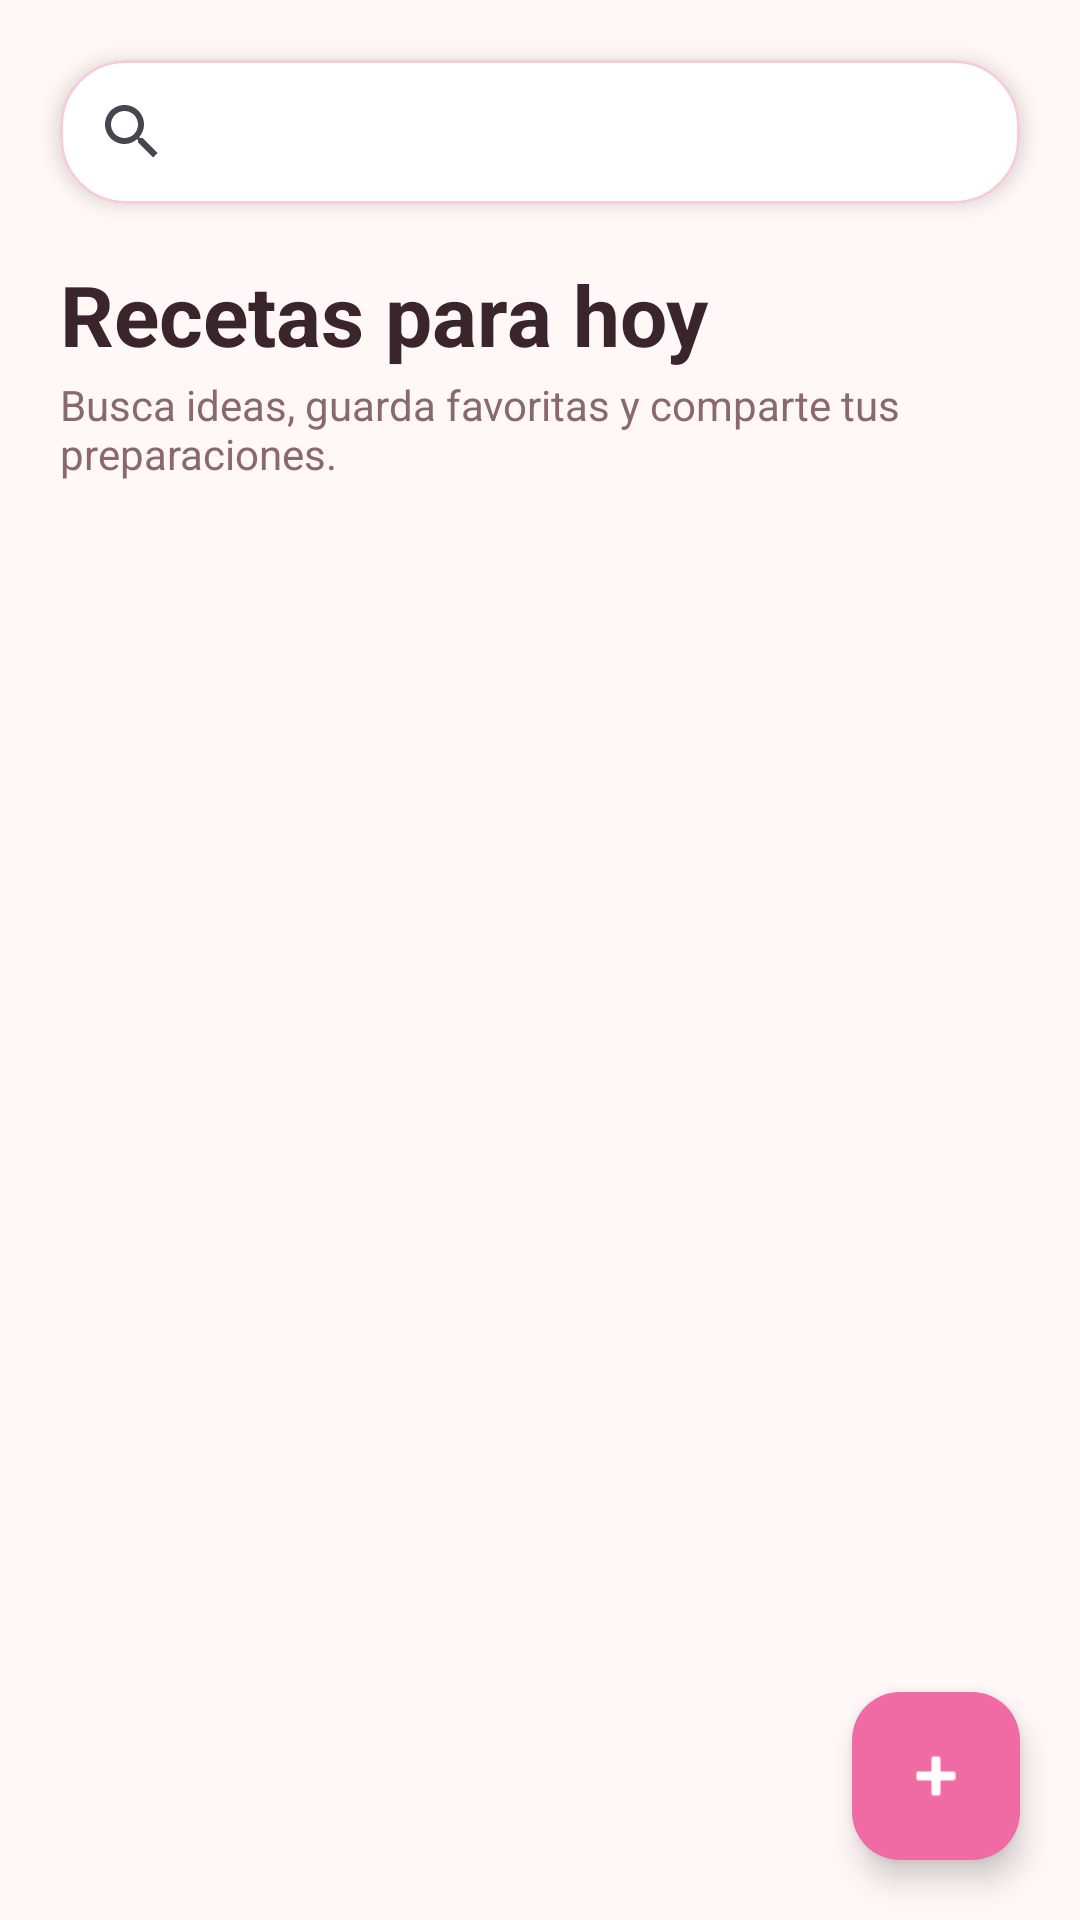

Named icons in this screenshot (1080w x 1920h) and their centers, point (x, y):
Agregar receta: point (936, 1776)
